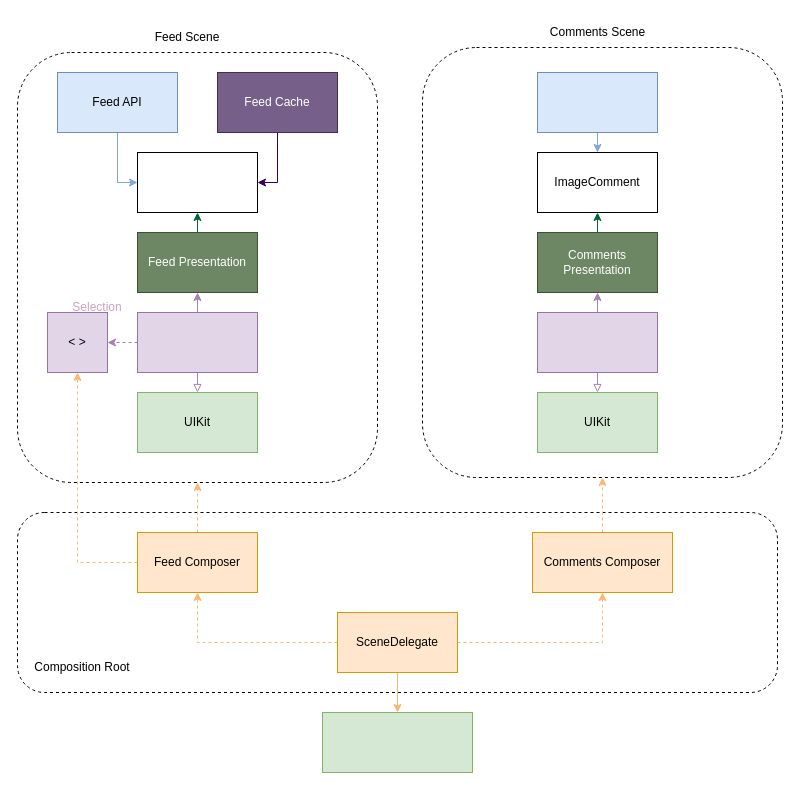
Image size: 800x790. Some labels were removed from this diagram. The box of each missing label's shape, as (x1, y1, x2, y2) in pixels:
Comments API: (536, 72, 658, 132)
Comments UI: (536, 312, 658, 372)
Feed UI: (136, 312, 258, 372)
FeedImage: (136, 152, 258, 212)
UINavigationController: (322, 712, 472, 772)
